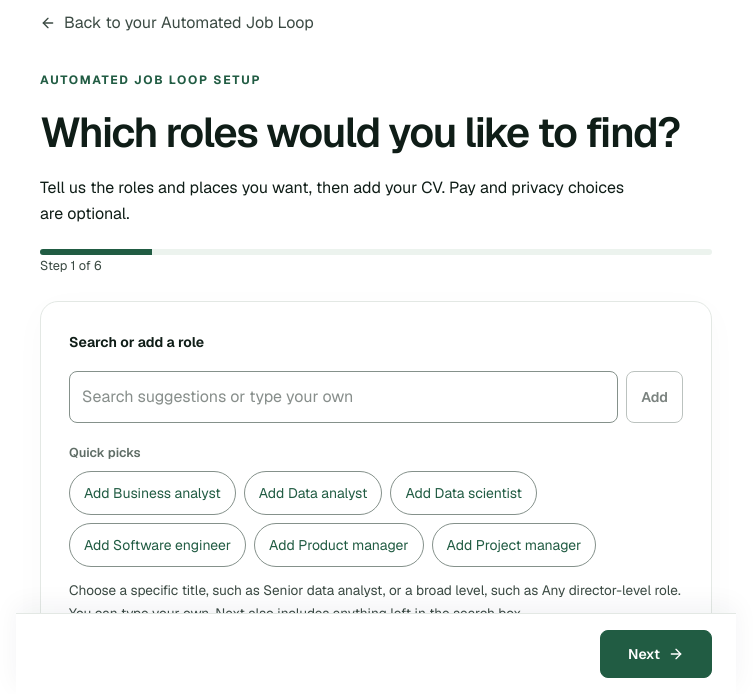
Test: Roles step: one-tap choices › does not offer a role that is already selected, whatever its capitals
The image size is (753, 694).
Step 1. Type "business ANALYST" into the field labelled "Search or add a role" → (344,397), box [69, 371, 618, 423]
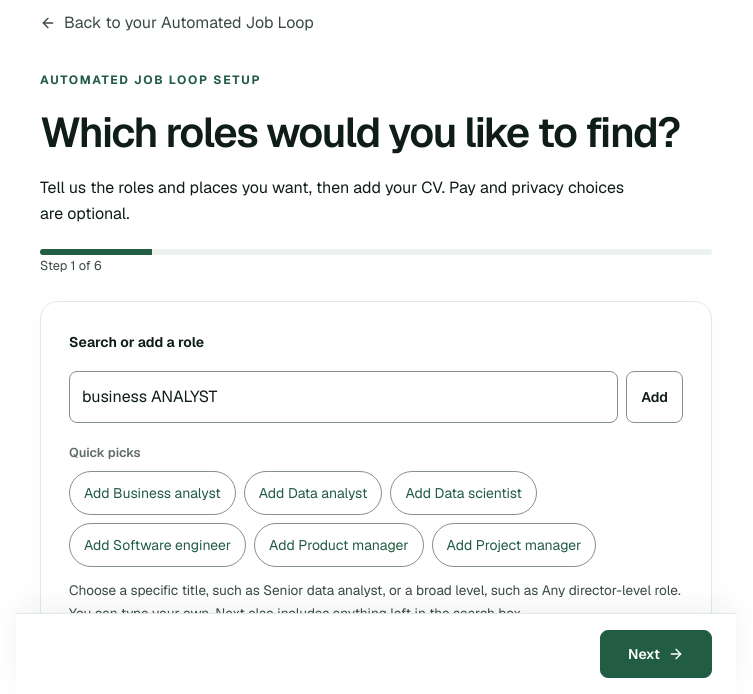
Step 2. Click the button "Add" → (655,397), box [626, 371, 683, 423]
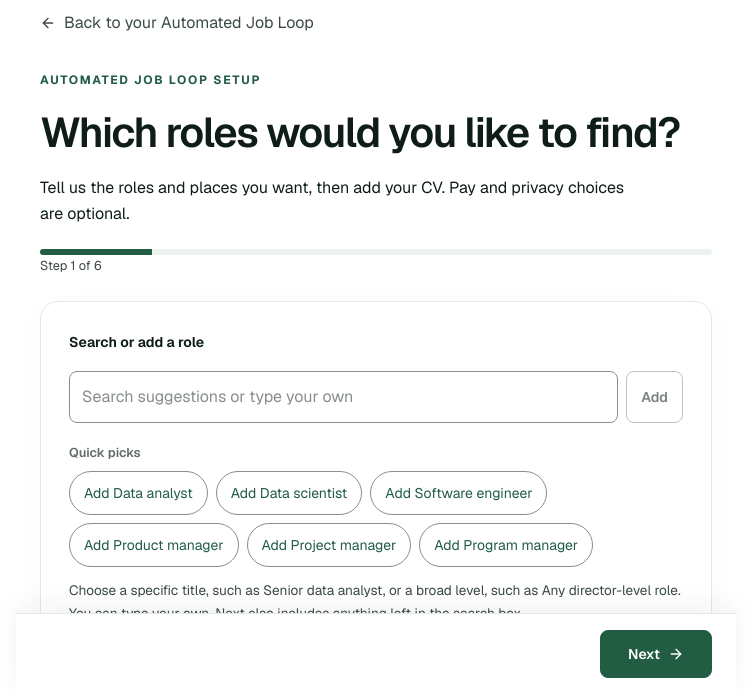
Result: the button "Add Business analyst" is gone
